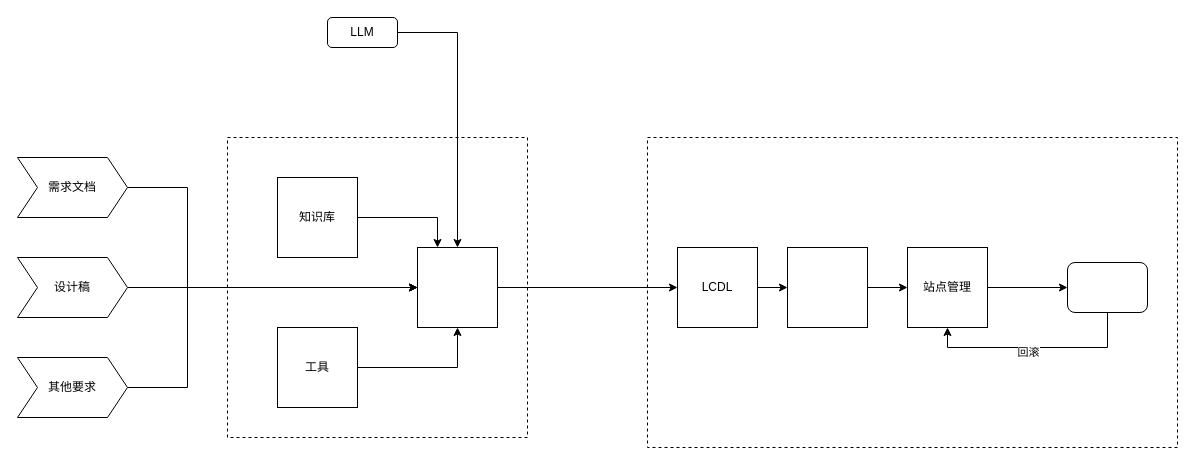
This 1195x465 diagram has some shape labels left out. The shapes that lost their labels are listed below. From the top down, each one's box as (x1, y1, x2, y2) in pixels, then its label:
(416, 246, 498, 328): Agent
(786, 246, 868, 328): Code
(1066, 262, 1148, 312): 发布
